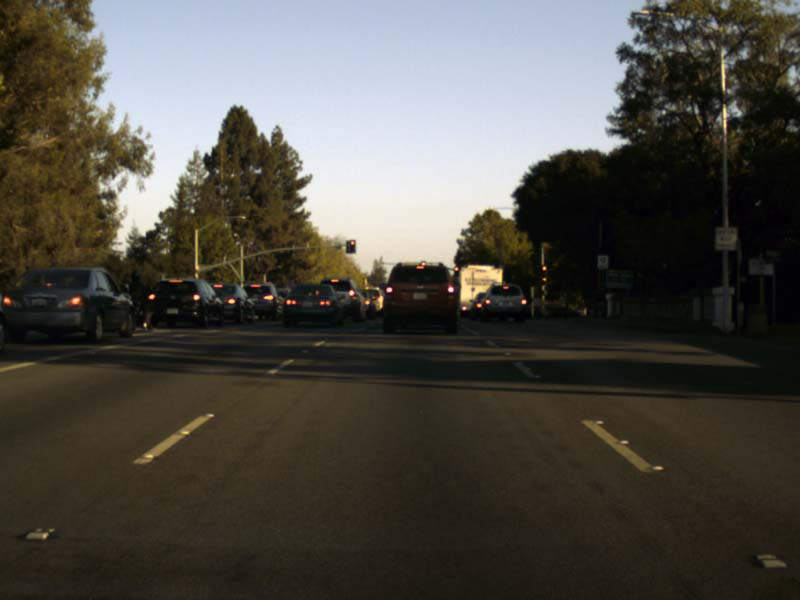Red: (349, 240, 355, 253), (541, 265, 547, 277), (420, 261, 425, 271), (454, 267, 458, 276)
